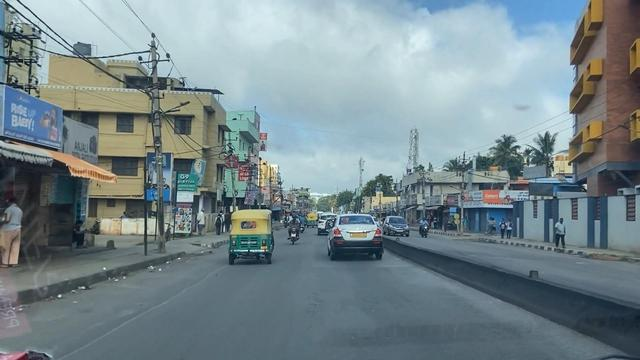LMV: (225, 206, 274, 263), (329, 211, 385, 258)
RoadDamages: (89, 298, 162, 352), (176, 264, 214, 295)
